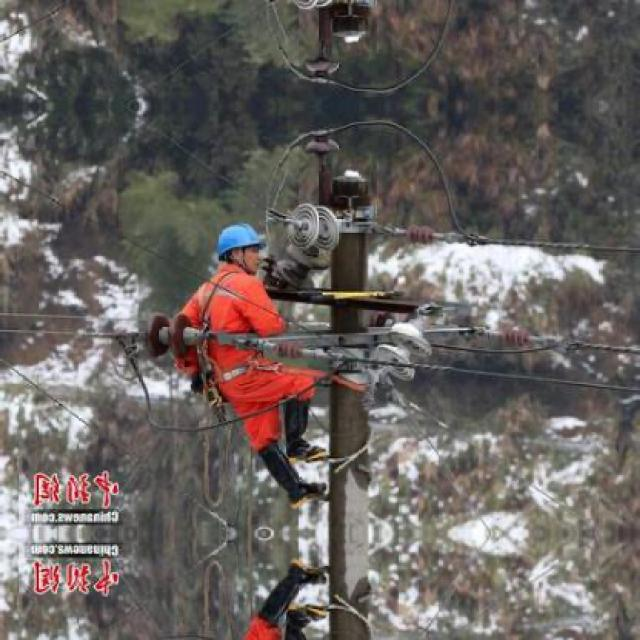con casco: (183, 203, 309, 305)
